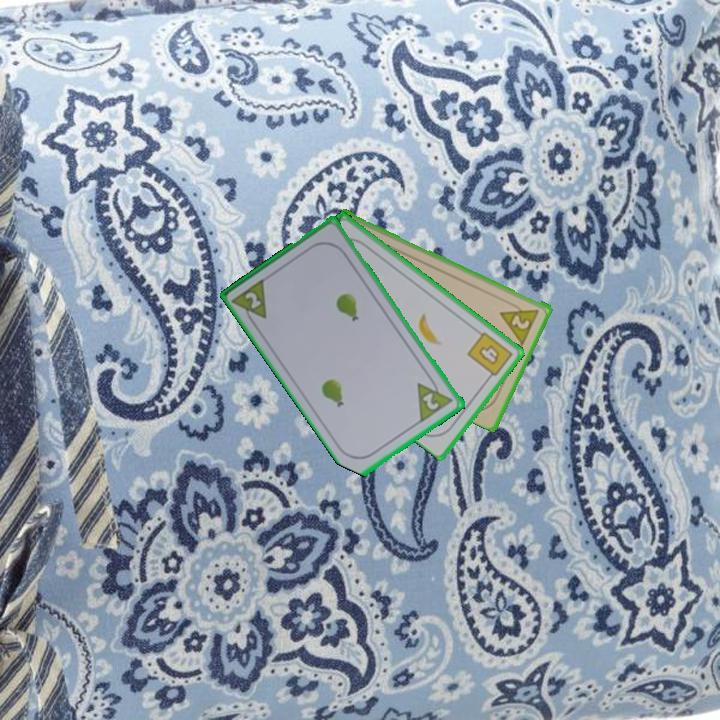2p: (413, 372, 457, 425), (496, 298, 542, 346), (230, 274, 270, 329)
4b: (463, 328, 516, 383)
